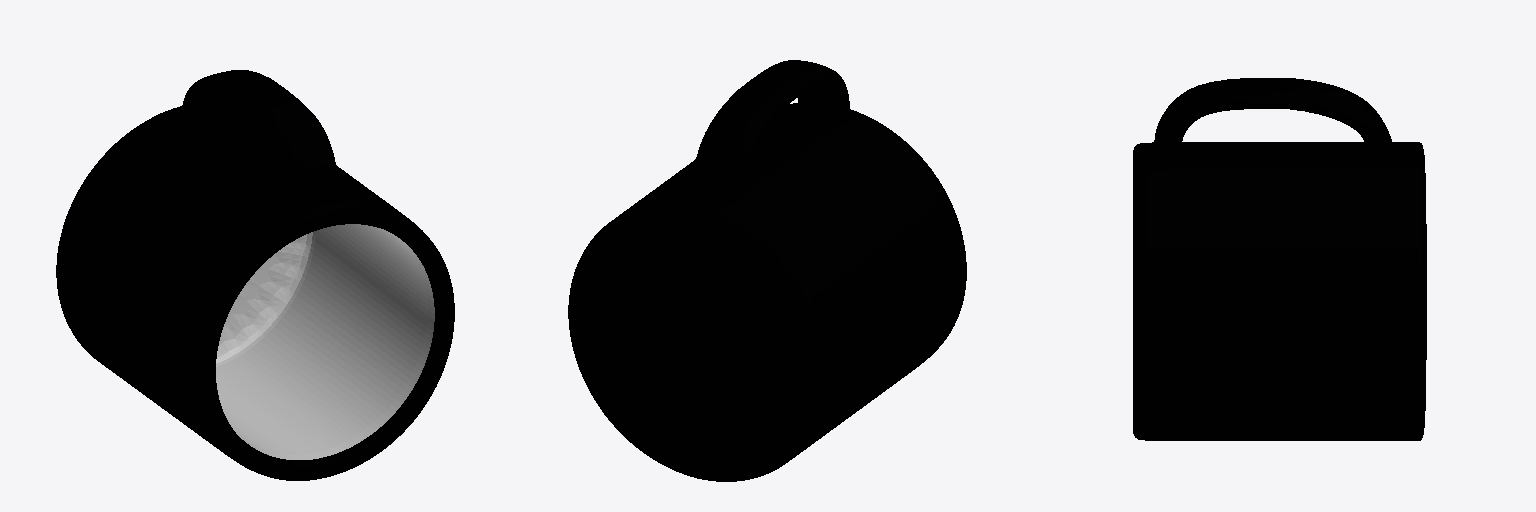
The picture shows the model from 3 angles: view 1: azimuth 30°, elevation 25°; view 2: azimuth 150°, elevation 25°; view 3: azimuth 270°, elevation 25°; orthographic projection.
Visible parts, largest first — view 1: Mug.001_Circle.002; view 2: Mug.001_Circle.002; view 3: Mug.001_Circle.002.
Boxes of the visible parts, x1,y1,x2,y2 form: Mug.001_Circle.002: [56, 70, 454, 480]; Mug.001_Circle.002: [568, 60, 966, 481]; Mug.001_Circle.002: [1133, 78, 1426, 440].
Bounding box in the file's own units: 0.0994 × 0.1255 × 0.0977.